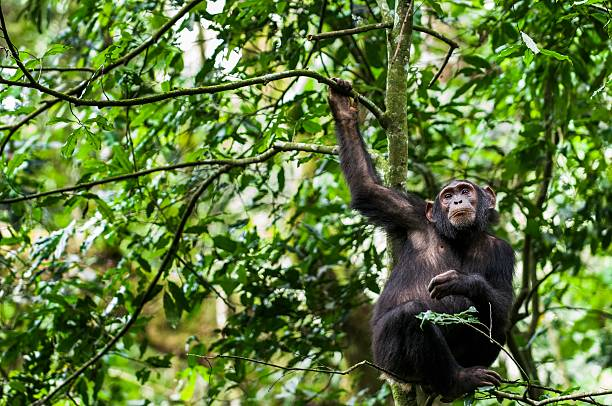chimpanzee: (420, 169, 504, 256)
